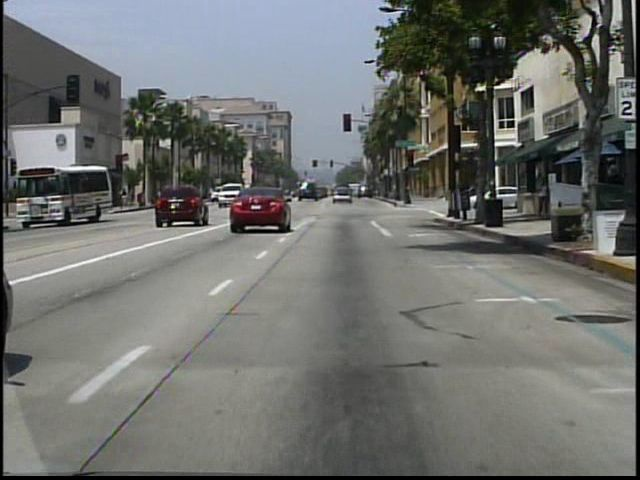person: (533, 172, 548, 221)
